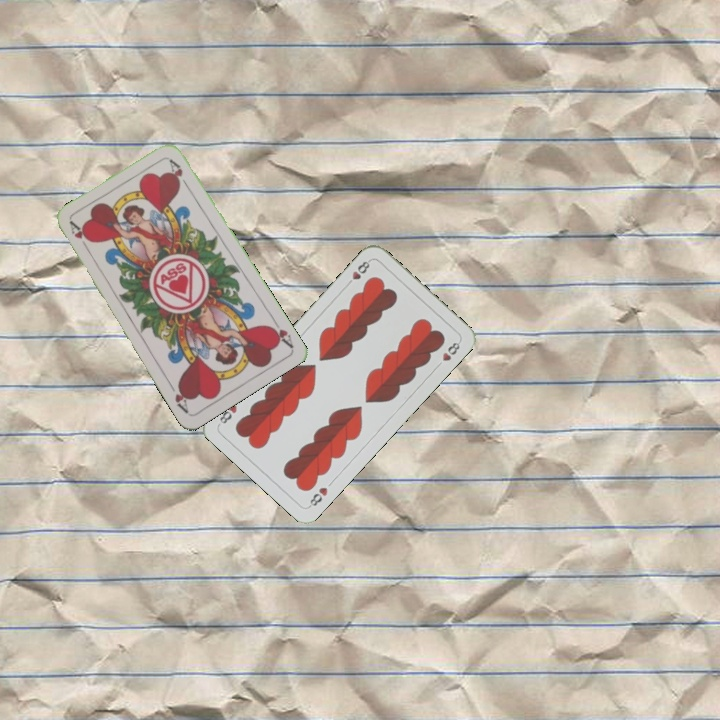H8: (342, 256, 373, 289), (304, 483, 330, 510)
HA: (265, 313, 296, 350), (66, 218, 93, 255)
